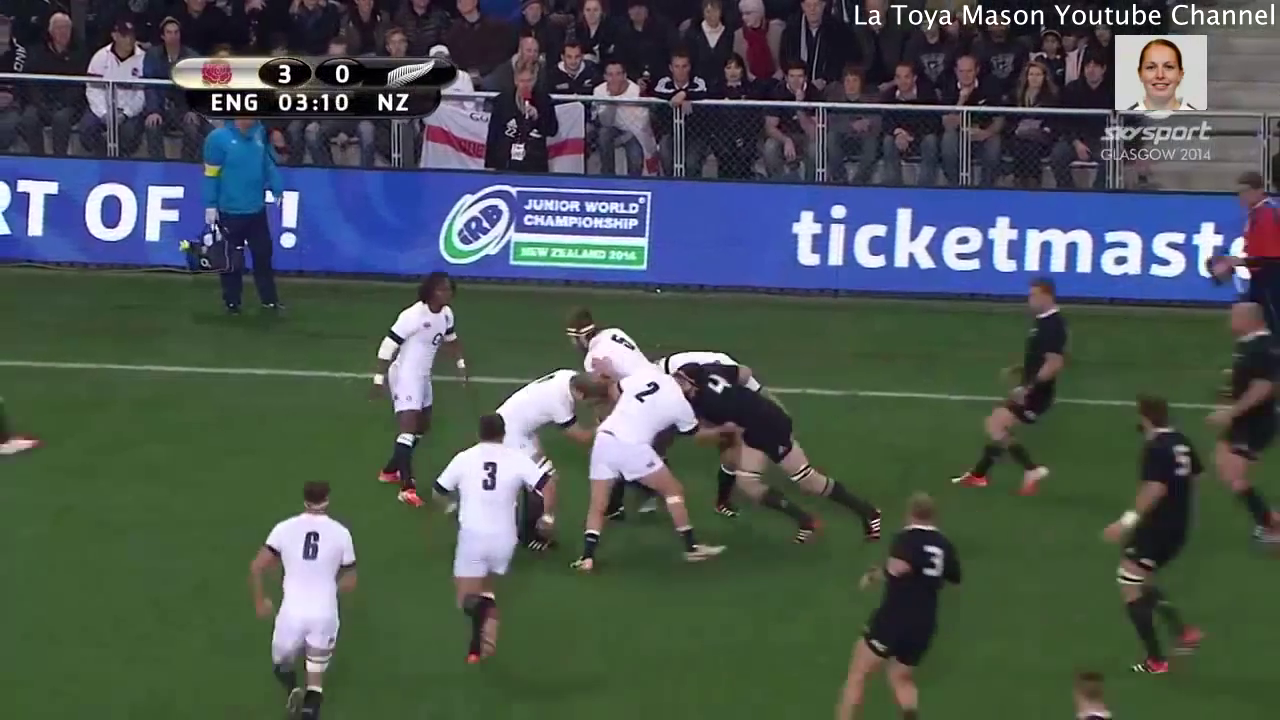maul: (527, 318, 837, 560)
player: (684, 359, 889, 552), (1095, 392, 1209, 678), (570, 360, 721, 569), (827, 487, 958, 720), (436, 412, 542, 680), (247, 473, 361, 720), (948, 275, 1071, 503), (360, 268, 469, 514), (498, 364, 601, 556), (1208, 288, 1280, 551), (1053, 664, 1129, 719)
